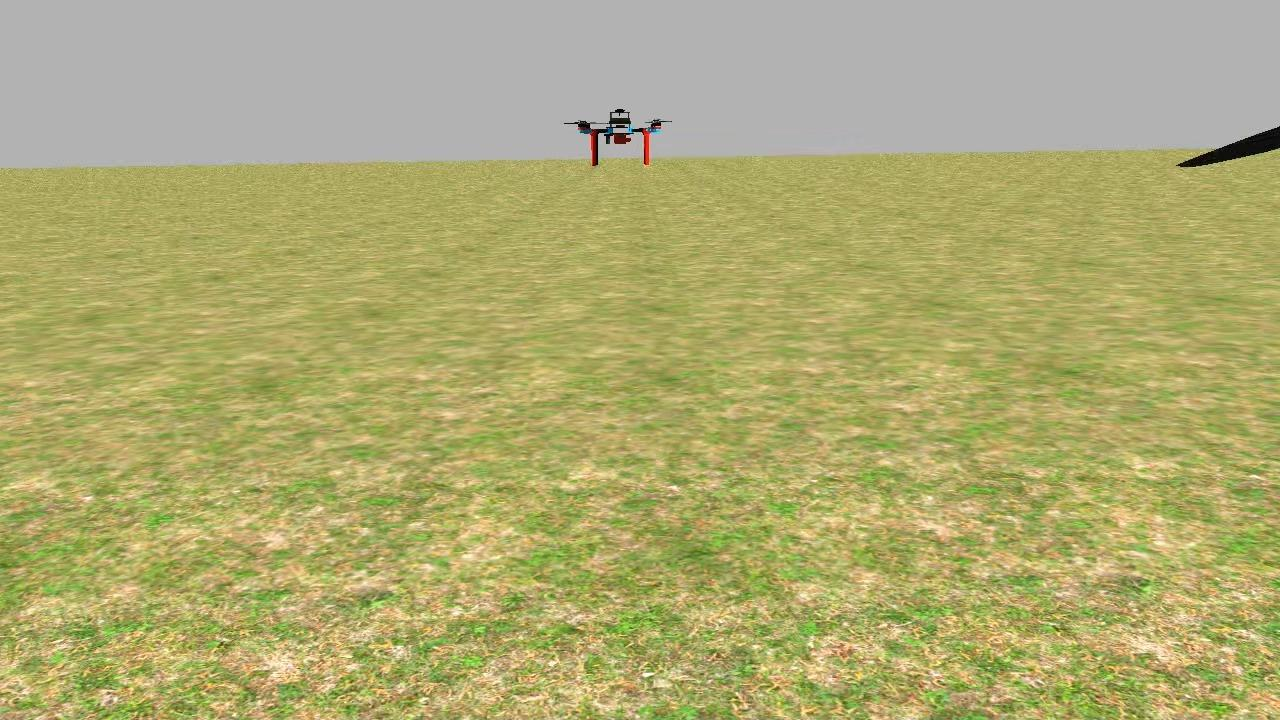UAV: (562, 99, 678, 170)
